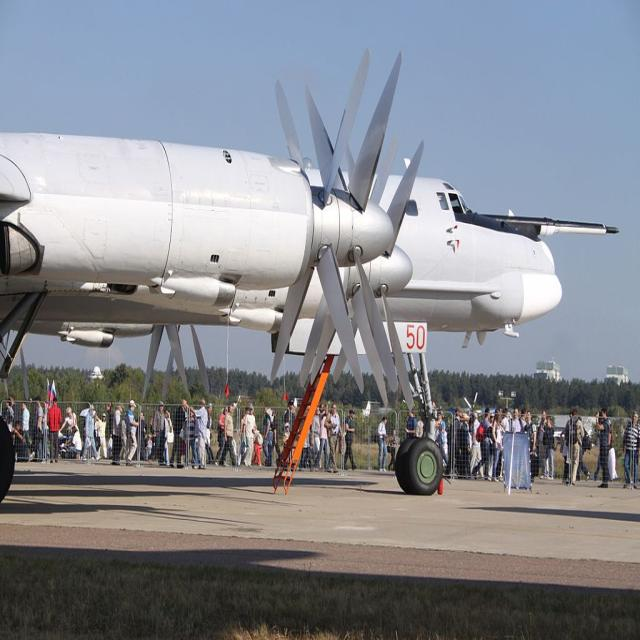MIL_Plane: (1, 47, 620, 507)
